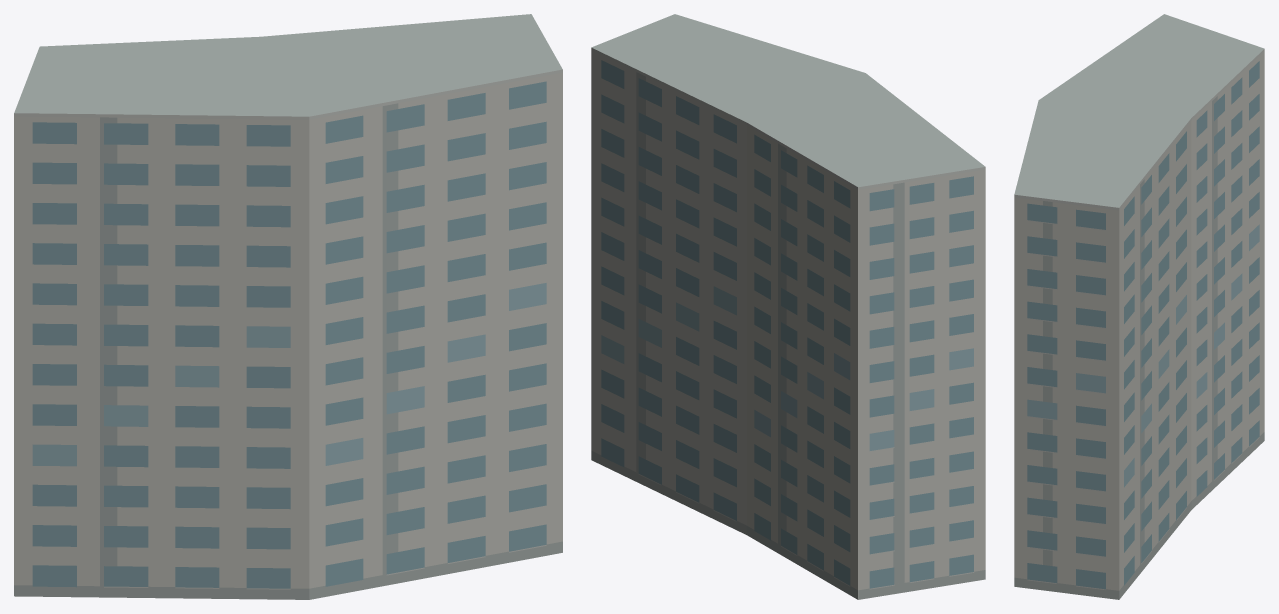
File: residential-6c3df828-e6b7-4bb4-9476-bb11a5138185.glb
3 renders of one model, left to right at view 1: azimuth 30°, elevation 25°; view 2: azimuth 150°, elevation 25°; view 3: azimuth 270°, elevation 25°, orthographic. The views are drawn at different scales.
Parts seen in each view (by area): view 1: residential-6c3df828-e6b7-4bb4-9476-bb11a5138185.tmp; view 2: residential-6c3df828-e6b7-4bb4-9476-bb11a5138185.tmp; view 3: residential-6c3df828-e6b7-4bb4-9476-bb11a5138185.tmp.
Part boxes in pixels (left/top/right/bottom): residential-6c3df828-e6b7-4bb4-9476-bb11a5138185.tmp: left=14, top=14, right=562, bottom=599; residential-6c3df828-e6b7-4bb4-9476-bb11a5138185.tmp: left=591, top=14, right=985, bottom=599; residential-6c3df828-e6b7-4bb4-9476-bb11a5138185.tmp: left=1014, top=14, right=1264, bottom=599.
Bounding box in the file's own units: 39.25 × 37 × 21.43.
